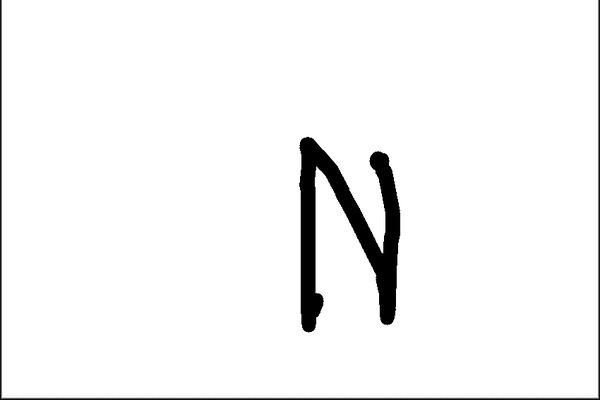N: (289, 127, 407, 332)
